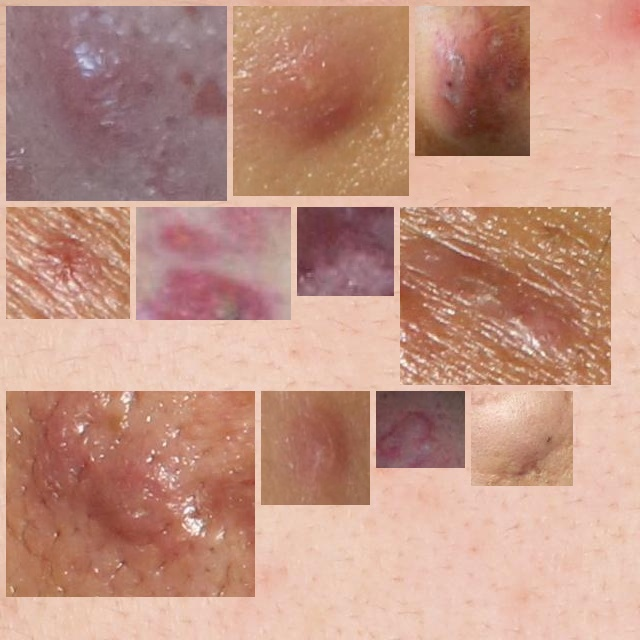nodule: (14, 399, 247, 589), (14, 14, 219, 193), (408, 215, 603, 377), (241, 14, 401, 188), (144, 215, 283, 319), (423, 14, 522, 148), (14, 215, 122, 311), (269, 399, 362, 497), (479, 399, 565, 478), (305, 215, 386, 288), (384, 399, 457, 460)
